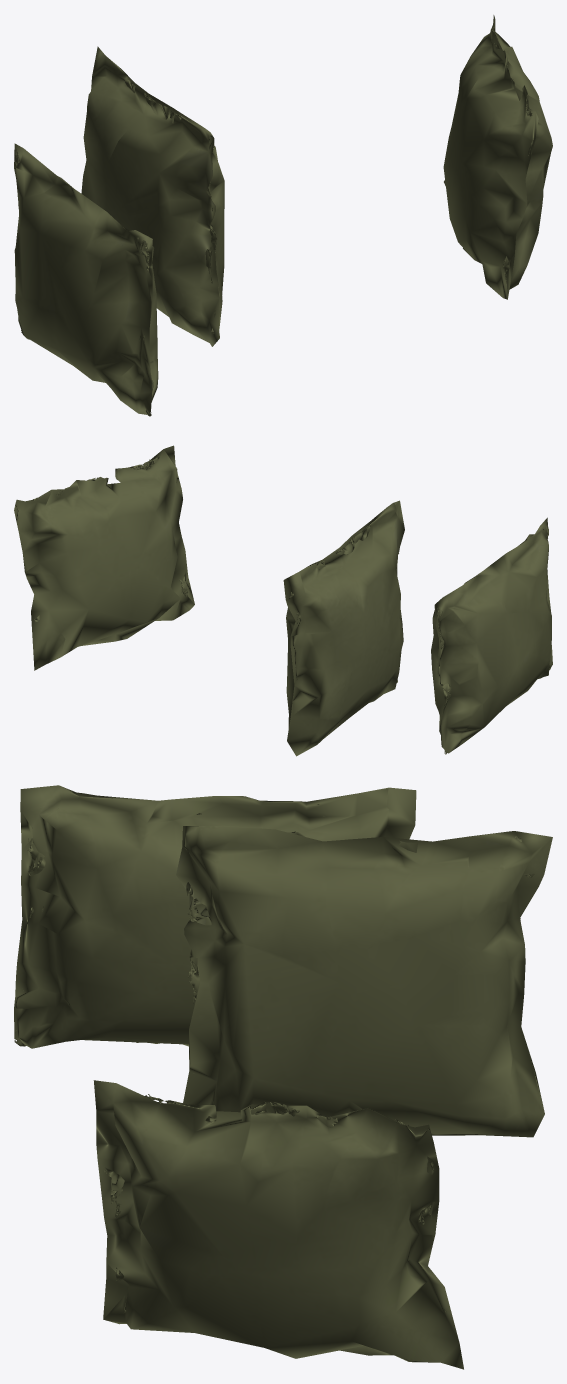
File: bandaj_paketi.glb
3 renders of one model, top to bottom at view 1: azimuth 30°, elevation 25°; view 2: azimuth 150°, elevation 25°; view 3: azimuth 270°, elevation 25°, orthographic. The views are drawn at different scales.
Parts seen in each view (by area): view 1: kok; view 2: kok; view 3: kok.
Boxes of the visible parts, x1,y1,x2,y2 form: kok: (14, 15, 552, 416); kok: (14, 445, 552, 756); kok: (14, 785, 552, 1369).
Size of the model in its own units: 0.15 by 0.0597 by 0.0917.
1 material, 1 textured.
